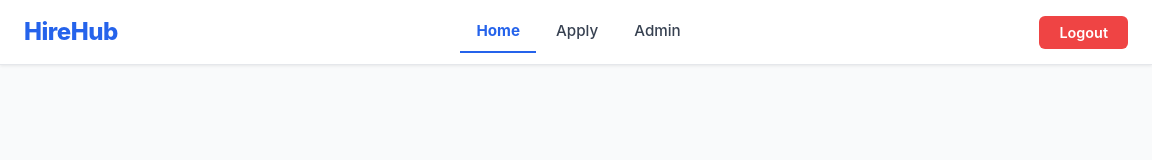
Header › shows Login button after logout
Click the button "Logout": (1084, 32) [1039, 16, 1128, 48]
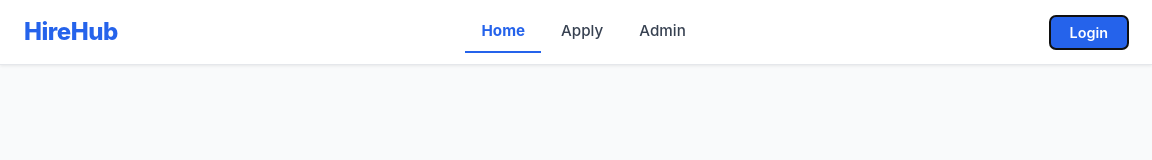
Check: the button "Login" is shown, box [1050, 16, 1128, 48]
Check: the button "Logout" is gone
